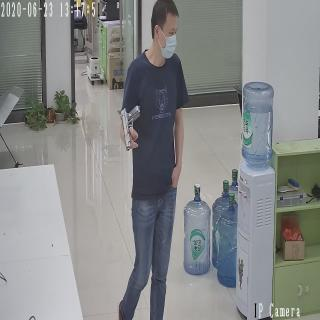gun: (117, 104, 140, 152)
